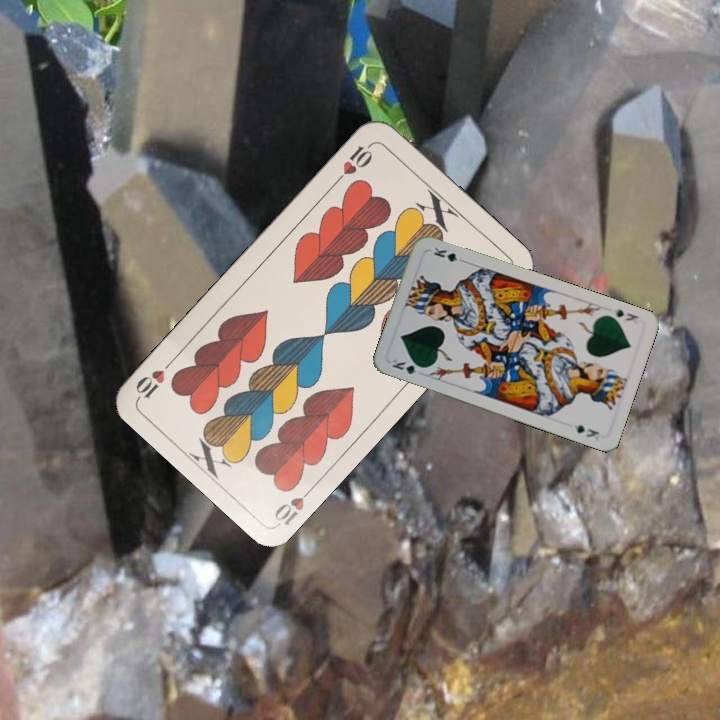GK: (388, 355, 428, 377), (608, 305, 641, 324)
H10: (270, 480, 318, 528), (331, 139, 376, 187)
